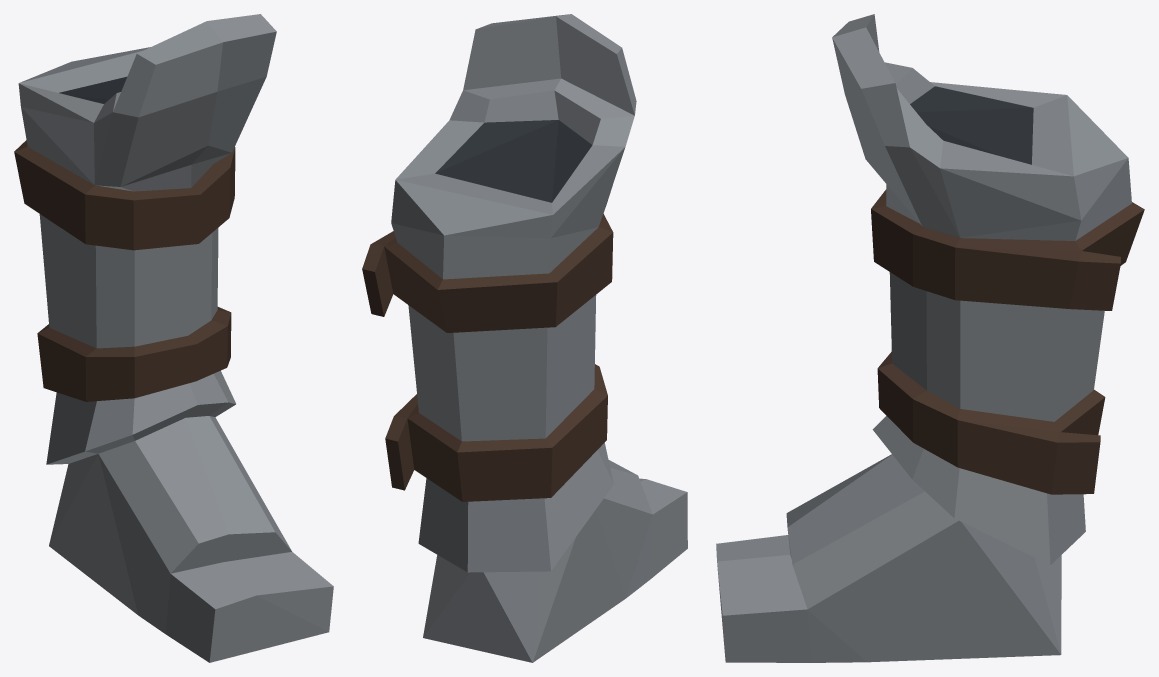
The model's file is Chr_LegRight_Male_13_Static.fbx.
The picture shows the model from 3 angles, left to right: view 1: azimuth 30°, elevation 25°; view 2: azimuth 150°, elevation 25°; view 3: azimuth 270°, elevation 25°; orthographic projection. The views are drawn at different scales.
Visible parts, largest first — view 1: Chr_LegRight_Male_13_Static; view 2: Chr_LegRight_Male_13_Static; view 3: Chr_LegRight_Male_13_Static.
Boxes of the visible parts, x1,y1,x2,y2 form: Chr_LegRight_Male_13_Static: (14, 14, 333, 662); Chr_LegRight_Male_13_Static: (362, 14, 687, 662); Chr_LegRight_Male_13_Static: (716, 14, 1144, 662).
Size of the model in its own units: 0.1626 by 0.4845 by 0.3099.
